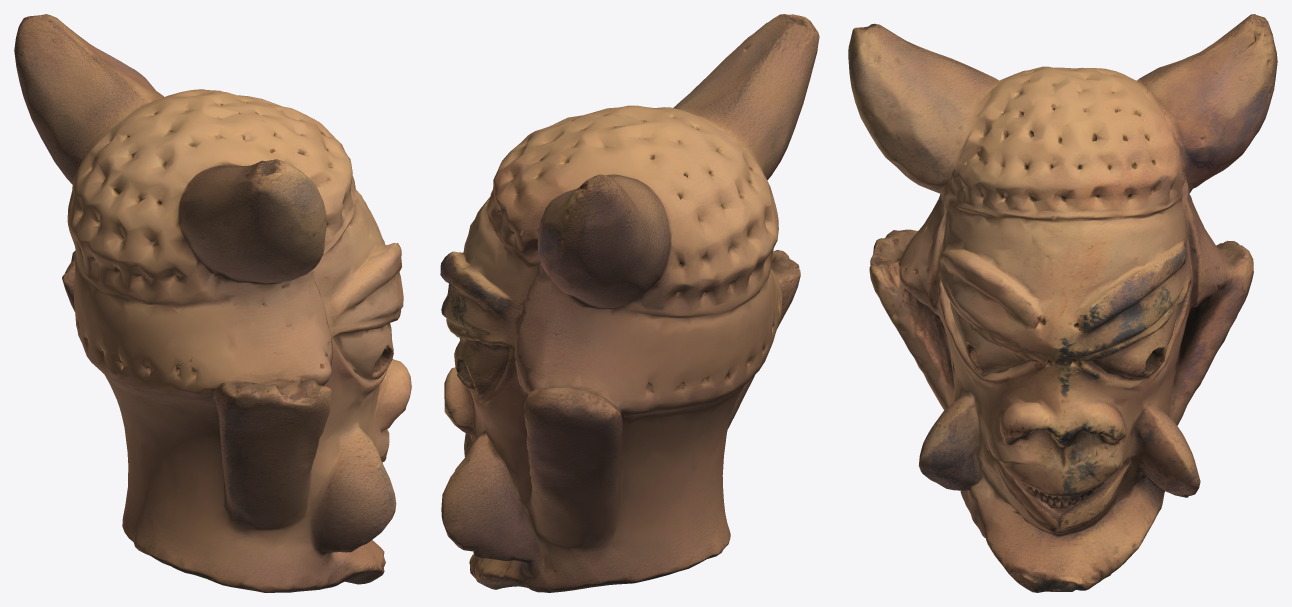
Rendered from nok-terracottas-1-3d.glb.
The picture shows the model from 3 angles, left to right: view 1: azimuth 30°, elevation 25°; view 2: azimuth 150°, elevation 25°; view 3: azimuth 270°, elevation 25°; orthographic projection. The views are drawn at different scales.
Parts seen in each view (by area): view 1: tripo_node_adeddd89-ad9c-4116-8b3f-d3fc78d5dc49; view 2: tripo_node_adeddd89-ad9c-4116-8b3f-d3fc78d5dc49; view 3: tripo_node_adeddd89-ad9c-4116-8b3f-d3fc78d5dc49.
Boxes of the visible parts, x1=… form: tripo_node_adeddd89-ad9c-4116-8b3f-d3fc78d5dc49: x1=14, y1=14, x2=411, y2=592; tripo_node_adeddd89-ad9c-4116-8b3f-d3fc78d5dc49: x1=440, y1=14, x2=819, y2=592; tripo_node_adeddd89-ad9c-4116-8b3f-d3fc78d5dc49: x1=848, y1=14, x2=1277, y2=592.
Bounding box in the file's own units: 0.5957 × 1 × 0.802.
1 material, 1 textured.
